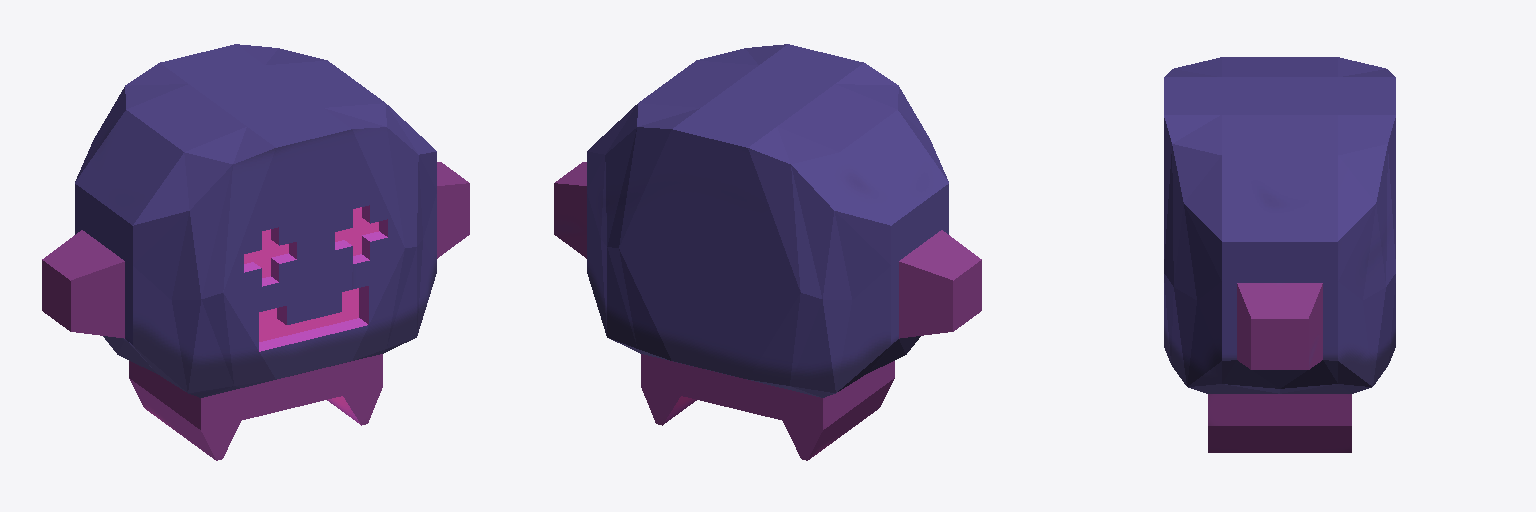
3 views of the same model, side by side, from view 1: azimuth 30°, elevation 25°; view 2: azimuth 150°, elevation 25°; view 3: azimuth 270°, elevation 25° (orthographic).
Visible parts, largest first — view 1: Cube; view 2: Cube; view 3: Cube.
Part boxes in pixels (left/top/right/bottom): Cube: left=42, top=44, right=469, bottom=460; Cube: left=554, top=44, right=981, bottom=460; Cube: left=1164, top=57, right=1395, bottom=452.
Size of the model in its own units: 5.99 by 4.58 by 3.02.
Materials: 1 (1 with a texture image).